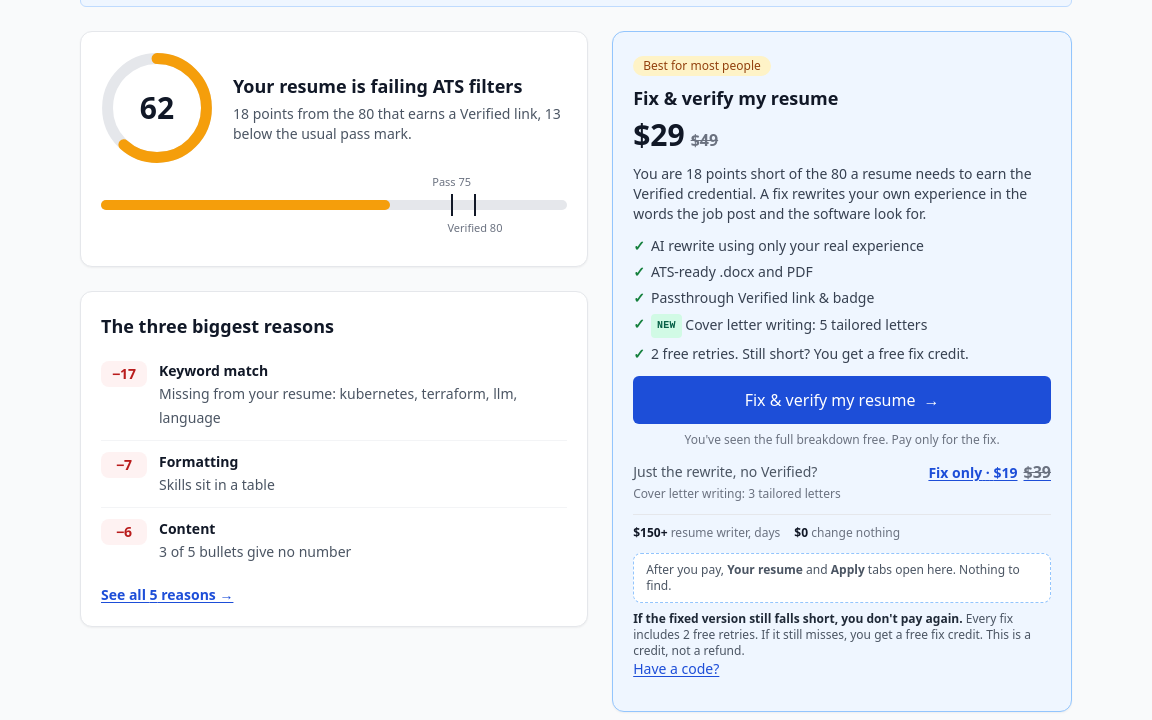
Test: result page buttons do what they say (real children) › anon visitor: buy opens the gate, never a payment; sign-in link keeps the token path
(page scrolled)
Click the button "Fix & verify my resume →" at (842, 400), box [633, 376, 1051, 424]
(page scrolled)
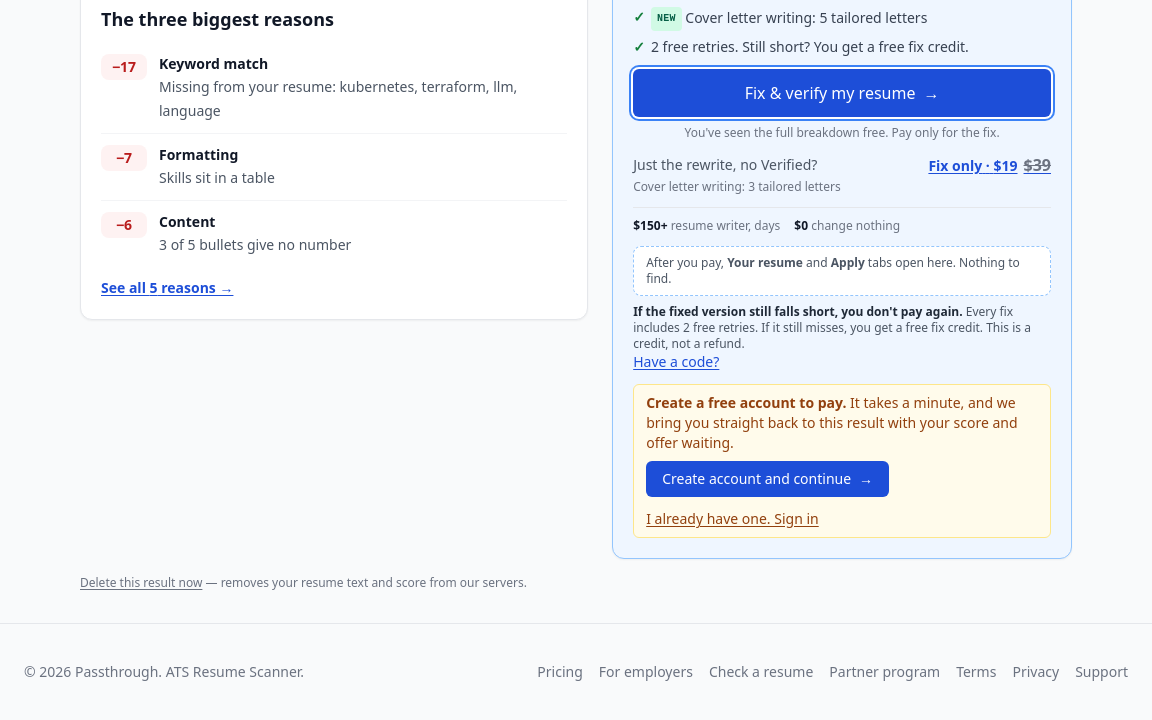
Result: the message with test id "buy-gate" is shown at [633, 384, 1051, 538]
